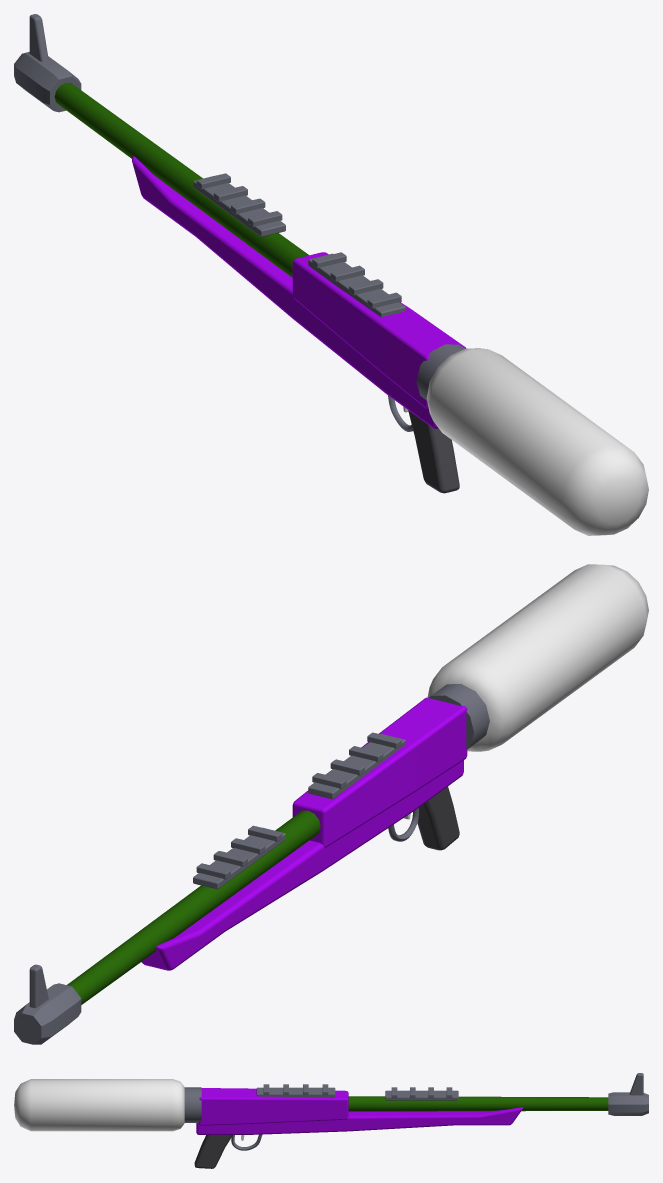
The model's file is W_Sniper.fbx.
3 renders of one model, top to bottom at view 1: azimuth 30°, elevation 25°; view 2: azimuth 150°, elevation 25°; view 3: azimuth 270°, elevation 25°, orthographic. The views are drawn at different scales.
Visible parts, largest first — view 1: Sniper_Body; view 2: Sniper_Body; view 3: Sniper_Body.
Boxes of the visible parts, x1,y1,x2,y2 form: Sniper_Body: (14, 14, 648, 535); Sniper_Body: (14, 564, 648, 1044); Sniper_Body: (14, 1073, 648, 1168).
Size of the model in its own units: 0.2 by 0.3943 by 2.42.
